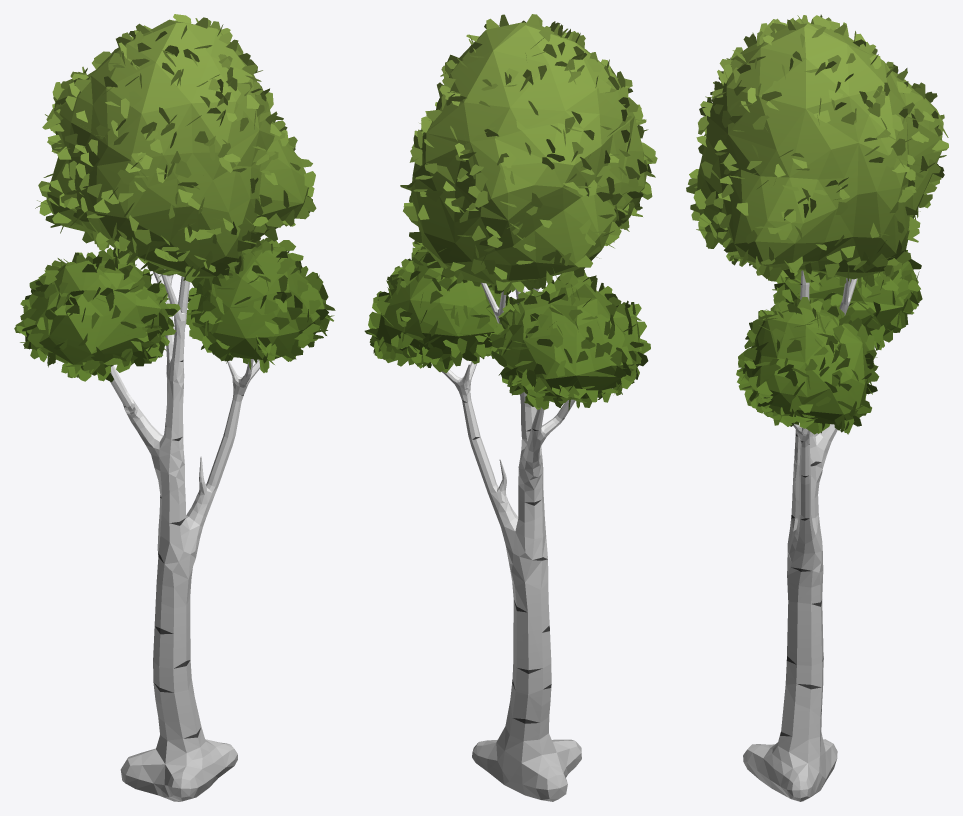
The model's file is Tree_07.fbx.
3 views of the same model, side by side, from view 1: azimuth 30°, elevation 25°; view 2: azimuth 150°, elevation 25°; view 3: azimuth 270°, elevation 25° (orthographic).
Visible parts, largest first — view 1: Tree_07_LOD0; view 2: Tree_07_LOD0; view 3: Tree_07_LOD0.
Part boxes in pixels (x1,y1,x2,y2): Tree_07_LOD0: [14, 14, 335, 801]; Tree_07_LOD0: [364, 14, 657, 801]; Tree_07_LOD0: [686, 14, 948, 801].
Size of what is drawn, in the model's own units: 3.52 by 9.26 by 2.86.
